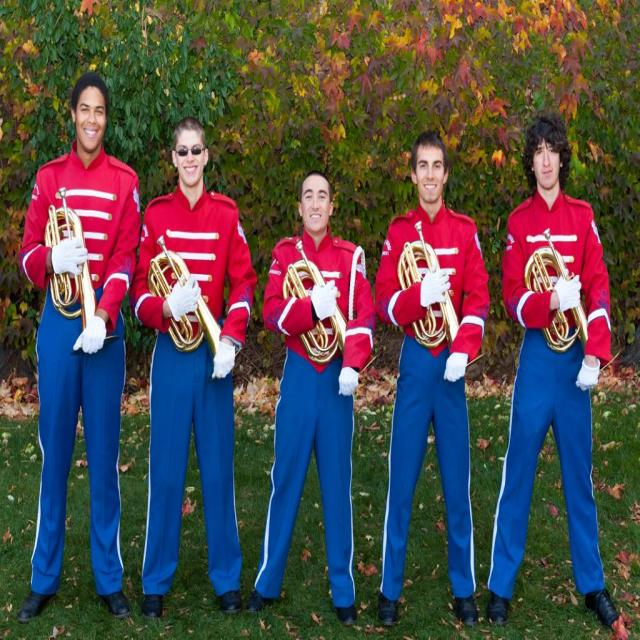Face: (72, 82, 108, 158), (529, 132, 568, 195), (293, 176, 337, 231), (415, 146, 450, 205), (178, 126, 207, 187)
